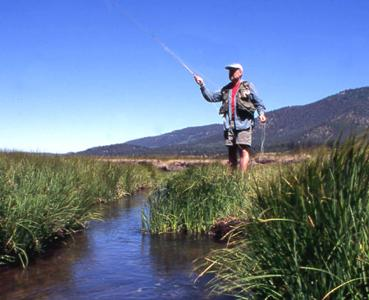person: (193, 64, 267, 173)
